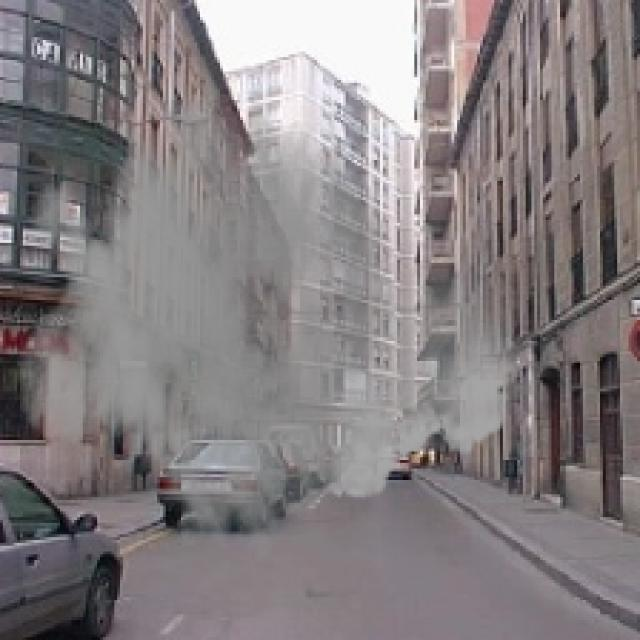smoke: (14, 40, 534, 566)
